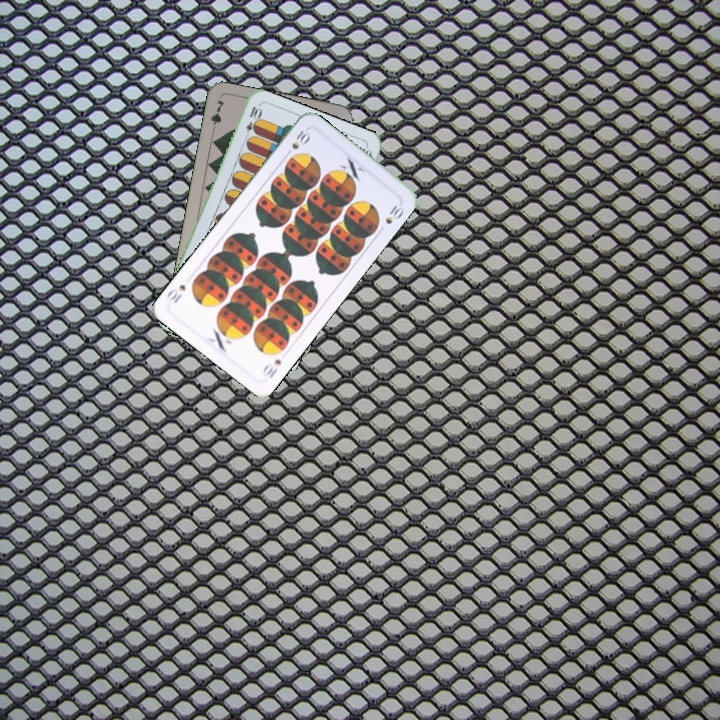E10: (241, 102, 263, 142)
G7: (207, 96, 227, 136)
S10: (281, 126, 313, 159), (258, 355, 284, 381)
